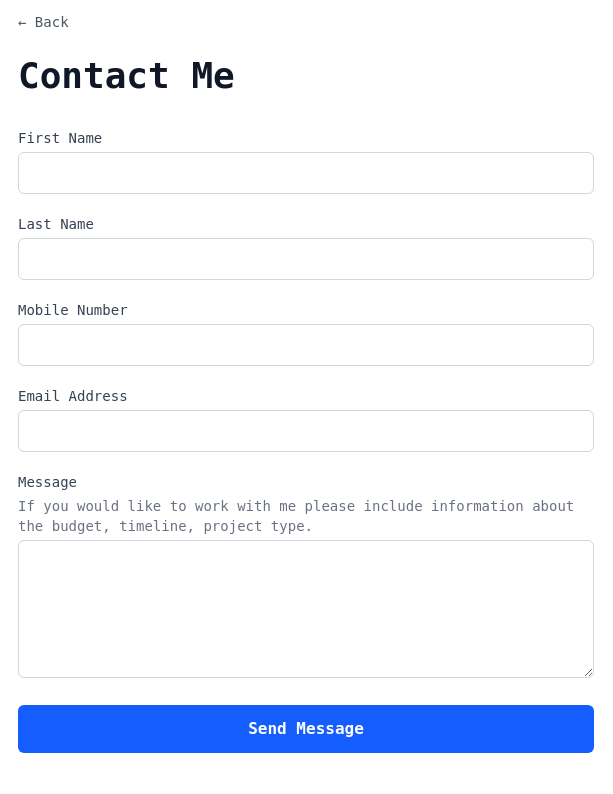
Test: ContactForm (en-GB, default locale) › client-side validation on blur › shows the localized email error message from enGB dict when an invalid email is entered and blurred
Type "not-an-email" into the field labelled "Email Address". click: (306, 431)
box: [18,410,594,452]
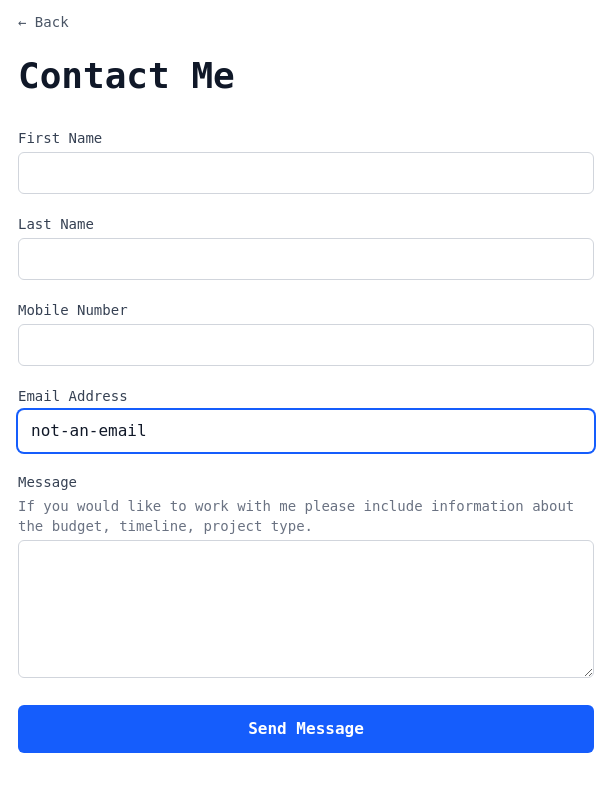
Press Tab
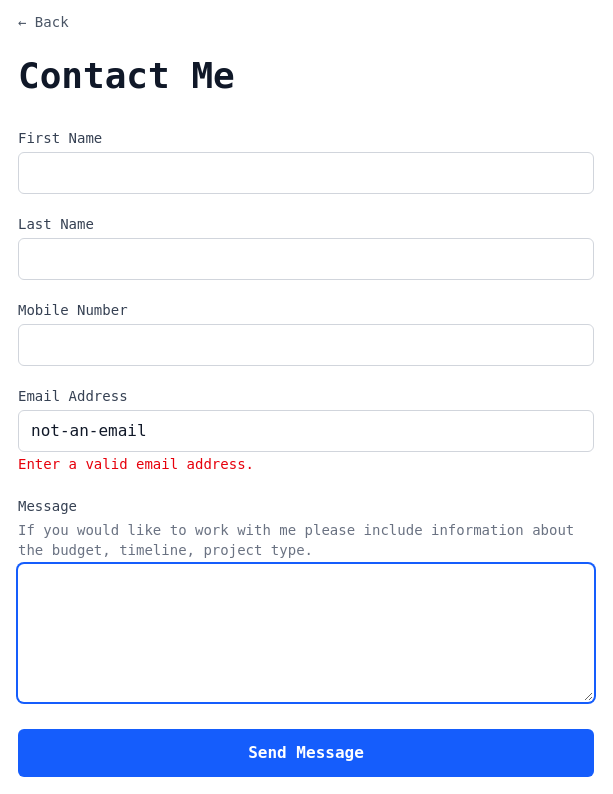
Expected: the text "Enter a valid email address." is shown, [18,456,254,472]
